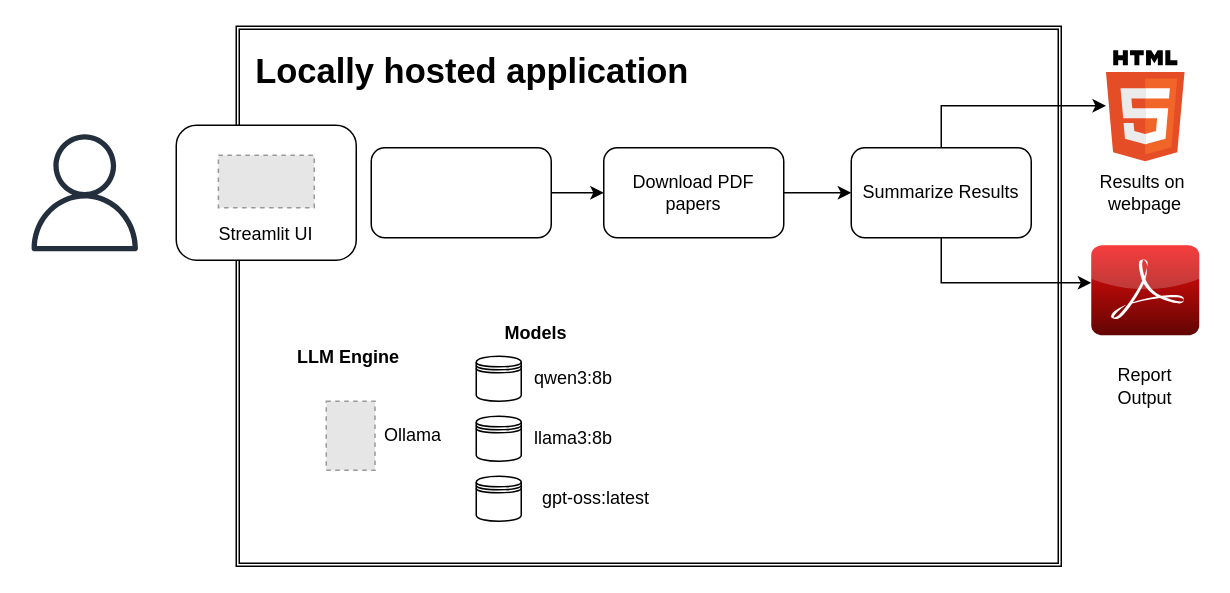
Some shapes in this 1230 by 593 pixel diagram are drawn without their labels. Grey dashed boxes stand in for pictures. Here are the shapes that lost their labels. From the top down, the centre of each, then its label:
point (84, 192): Researcher
point (460, 192): Query Pubmed
